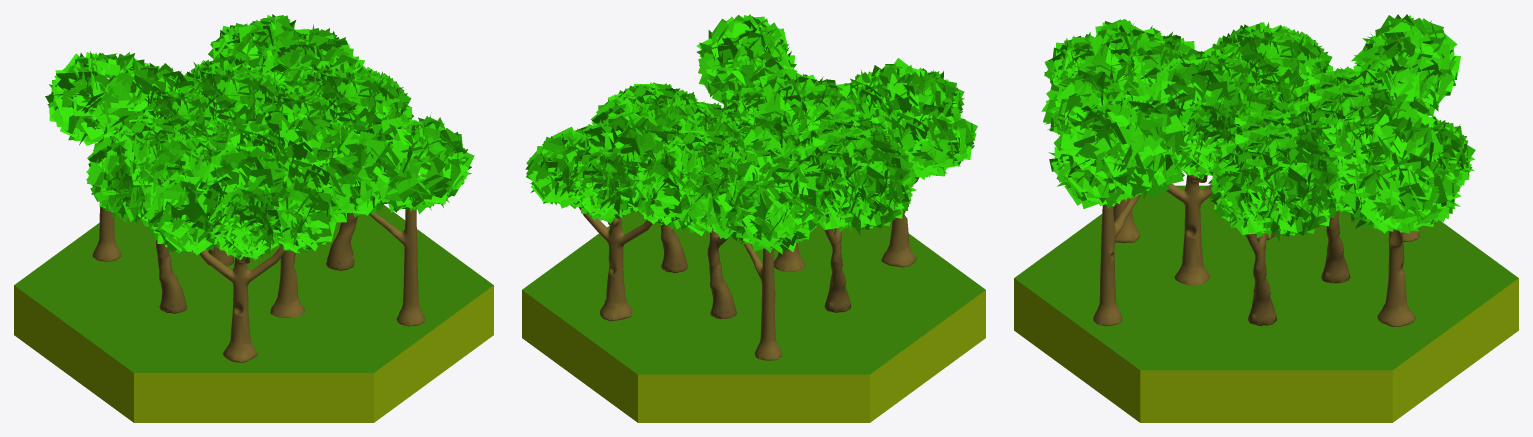
The model's file is Tuile_Arboricole_Niv4.fbx.
3 views of the same model, side by side, from view 1: azimuth 30°, elevation 25°; view 2: azimuth 150°, elevation 25°; view 3: azimuth 270°, elevation 25° (orthographic). The views are drawn at different scales.
Visible parts, largest first — view 1: Circle, Cylinder, Cylinder.003, tree_LP.002, Cylinder.001, Cylinder.004, tree_LP.001, tree_LP.003, Cylinder.002; view 2: Circle, Cylinder.002, tree_LP.002, Cylinder.001, Cylinder, Cylinder.004, Cylinder.003, tree_LP.003, tree_LP.001; view 3: Circle, Cylinder.002, tree_LP.001, Cylinder.003, Cylinder.004, Cylinder, Cylinder.001, tree_LP.002, tree_LP.003.
Boxes of the visible parts, bbox=[...] form: Circle: bbox=[14, 205, 493, 422]; Cylinder: bbox=[144, 142, 336, 362]; Cylinder.003: bbox=[319, 112, 474, 326]; tree_LP.002: bbox=[86, 116, 229, 313]; Cylinder.001: bbox=[45, 51, 195, 261]; Cylinder.004: bbox=[225, 104, 368, 317]; tree_LP.001: bbox=[245, 62, 413, 270]; tree_LP.003: bbox=[135, 60, 283, 266]; Cylinder.002: bbox=[190, 14, 364, 90]; Circle: bbox=[522, 211, 985, 422]; Cylinder.002: bbox=[525, 110, 690, 321]; tree_LP.002: bbox=[790, 112, 917, 312]; Cylinder.001: bbox=[692, 149, 823, 360]; Cylinder: bbox=[837, 58, 977, 267]; Cylinder.004: bbox=[722, 68, 850, 271]; Cylinder.003: bbox=[696, 14, 797, 104]; tree_LP.003: bbox=[660, 129, 791, 318]; tree_LP.001: bbox=[590, 82, 751, 272]; Circle: bbox=[1014, 185, 1518, 422]; Cylinder.002: bbox=[1321, 100, 1475, 326]; tree_LP.001: bbox=[1208, 108, 1340, 326]; Cylinder.003: bbox=[1048, 99, 1191, 325]; Cylinder.004: bbox=[1105, 55, 1287, 285]; Cylinder: bbox=[1041, 19, 1202, 242]; Cylinder.001: bbox=[1351, 14, 1460, 241]; tree_LP.002: bbox=[1192, 22, 1333, 240]; tree_LP.003: bbox=[1287, 66, 1400, 283].
Bounding box in the file's own units: 107 × 72.43 × 124.
